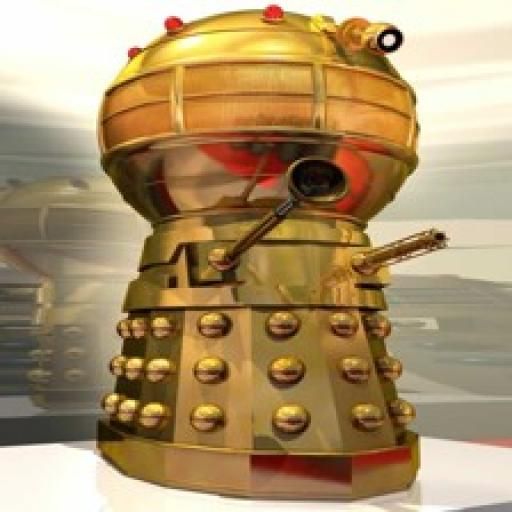dalek: (92, 1, 448, 507)
